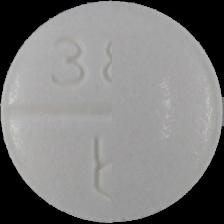0555-0381: (0, 0, 224, 224)
